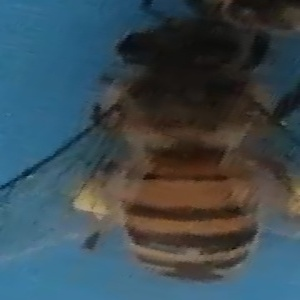bee: (80, 19, 283, 287)
